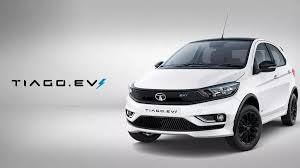Tiago: (122, 33, 298, 154)
